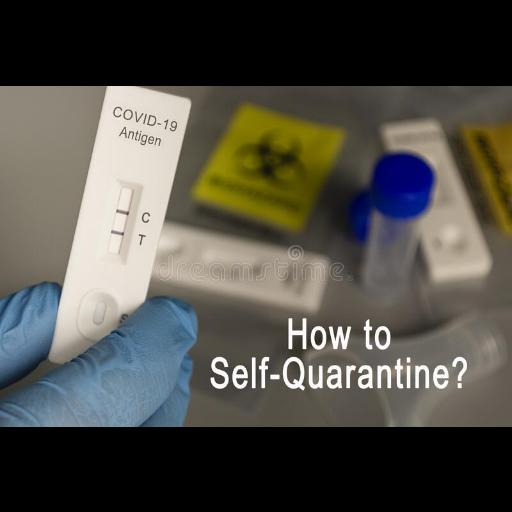Pos: (48, 85, 191, 375)
